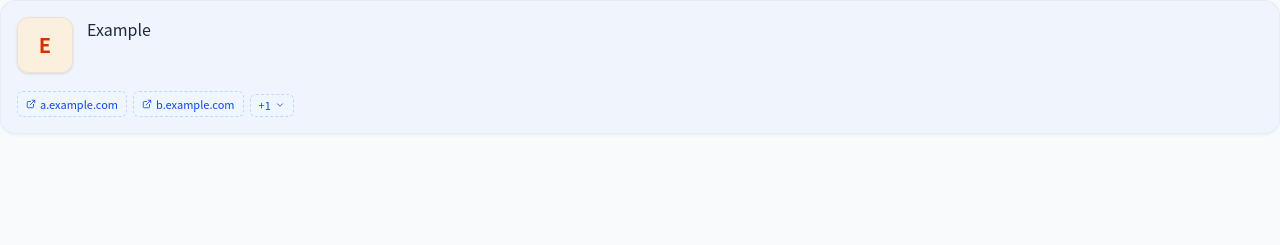
it: LinkCard › shows alternative URLs as chips and expands with +N
This screenshot has width=1280, height=245.
Expected: the text "https://c.example.com" is not shown
Click the button "+1" at (272, 105), box [250,94,294,116]
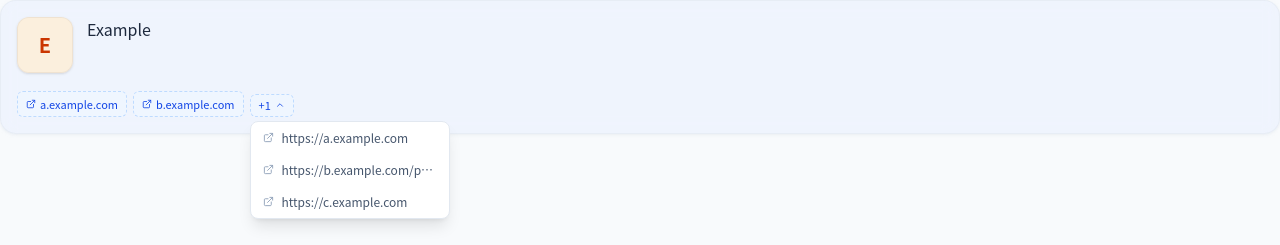
Now the text "https://c.example.com" is shown, box [282,194,407,210]
